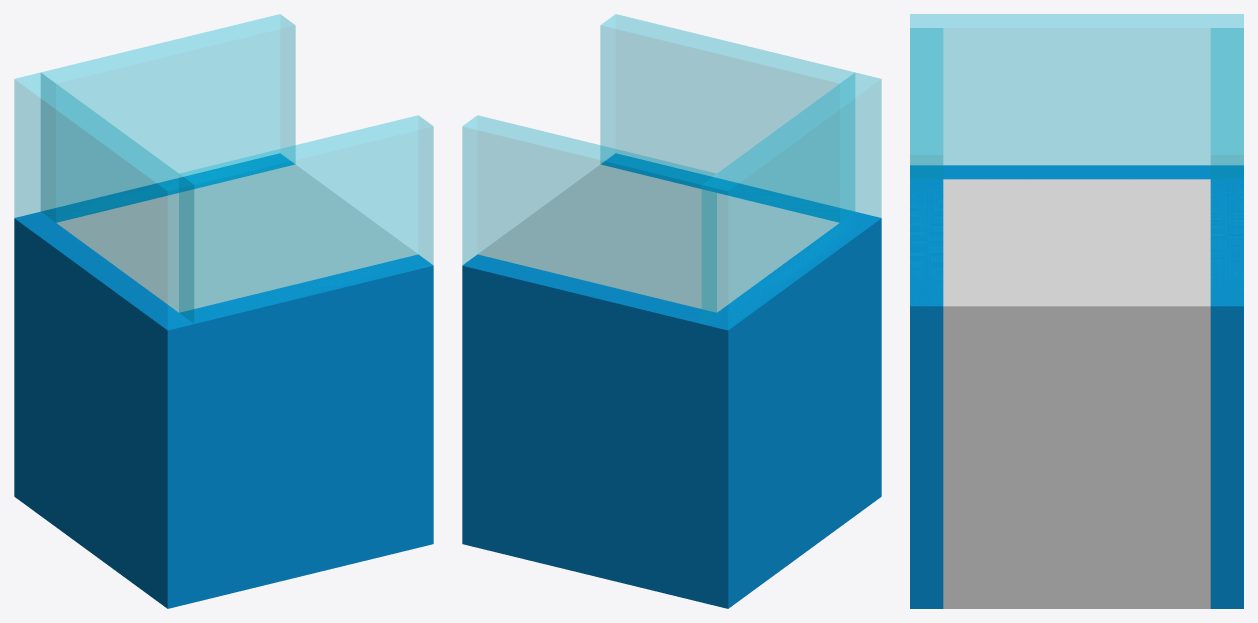
The picture shows the model from 3 angles, left to right: view 1: azimuth 30°, elevation 25°; view 2: azimuth 150°, elevation 25°; view 3: azimuth 270°, elevation 25°; orthographic projection. The views are drawn at different scales.
Parts seen in each view (by area): view 1: 立方体.001, 立方体, 立方体.003, 立方体.002; view 2: 立方体.001, 立方体.003, 立方体, 立方体.002; view 3: 立方体.001, 立方体.002, 立方体, 立方体.003.
Boxes of the visible parts, bbox=[...] form: 立方体.001: bbox=[14, 153, 433, 608]; 立方体: bbox=[179, 115, 433, 323]; 立方体.003: bbox=[41, 14, 295, 221]; 立方体.002: bbox=[14, 72, 193, 329]; 立方体.001: bbox=[462, 153, 881, 608]; 立方体.003: bbox=[462, 115, 716, 323]; 立方体: bbox=[600, 14, 854, 221]; 立方体.002: bbox=[702, 72, 881, 329]; 立方体.001: bbox=[910, 165, 1243, 608]; 立方体.002: bbox=[910, 14, 1243, 178]; 立方体: bbox=[910, 28, 942, 305]; 立方体.003: bbox=[1211, 28, 1243, 305].
Size of the model in its own units: 2000 by 3000 by 2000.
